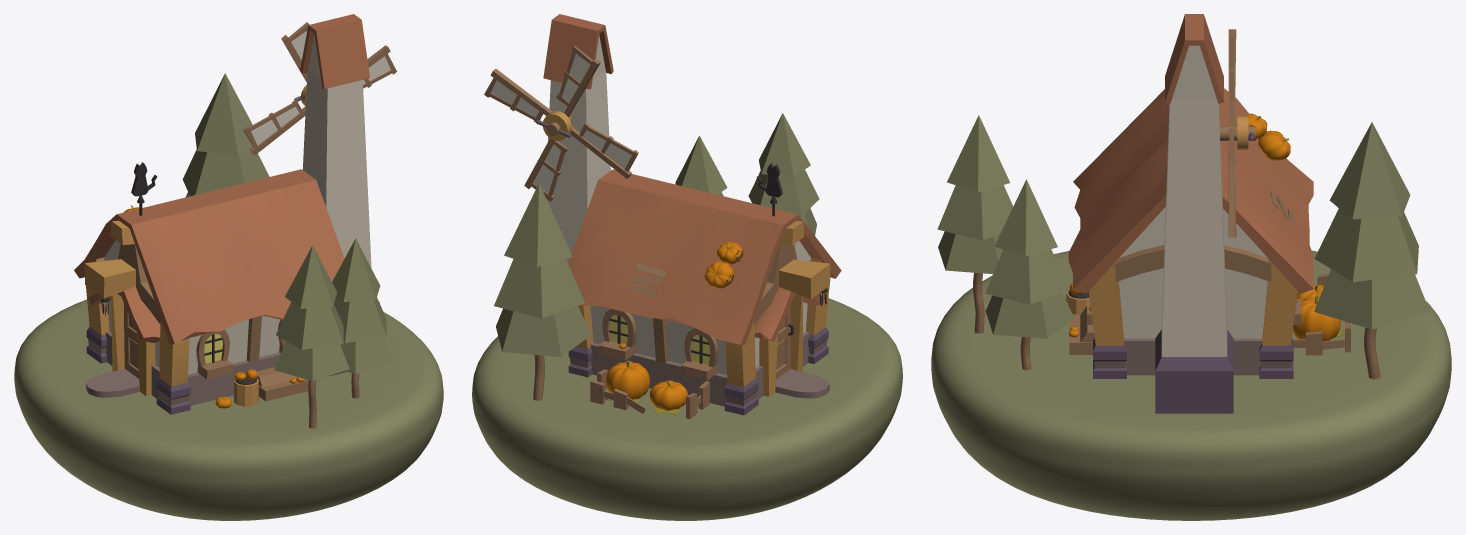
Rendered from melnica.fbx.
3 renders of one model, left to right at view 1: azimuth 30°, elevation 25°; view 2: azimuth 150°, elevation 25°; view 3: azimuth 270°, elevation 25°, orthographic. The views are drawn at different scales.
Parts seen in each view (by area): view 1: pCube60, polySurface20, pCube1, pPyramid2 (×3), pPyramid3 (×3), polySurface24, pCube2, pPyramid1 (×2), pCylinder4, polySurface23, polySurface18, pCube16 (+11 smaller); view 2: pCube60, polySurface20, pPyramid3 (×3), pCylinder4, pCube1, pPyramid2 (×2), polySurface24, pPyramid1, pCube2, polySurface14, polySurface18, pCube14 (+15 smaller); view 3: pCube60, pCube1, polySurface20, pPyramid2 (×3), pPyramid1 (×3), pPyramid3 (×3), polySurface24, polySurface17, polySurface21, pCube2, polySurface22, pCylinder4 (+4 smaller).
Boxes of the visible parts, bbox=[...] form: pCube60: bbox=[14, 299, 443, 520]; polySurface20: bbox=[74, 169, 344, 344]; pCube1: bbox=[302, 34, 379, 303]; pPyramid2 (×3): bbox=[182, 148, 386, 349]; pPyramid3 (×3): bbox=[195, 73, 380, 308]; polySurface24: bbox=[104, 240, 280, 405]; pCube2: bbox=[300, 14, 369, 89]; pPyramid1 (×2): bbox=[274, 338, 392, 381]; pCylinder4: bbox=[243, 22, 396, 154]; polySurface23: bbox=[156, 319, 190, 414]; polySurface18: bbox=[84, 259, 135, 298]; pCube16: bbox=[196, 330, 233, 379]; pCube60: bbox=[472, 298, 902, 520]; polySurface20: bbox=[568, 169, 841, 344]; pPyramid3 (×3): bbox=[504, 113, 810, 266]; pCylinder4: bbox=[484, 46, 638, 201]; pCube1: bbox=[546, 35, 610, 262]; pPyramid2 (×2): bbox=[494, 170, 819, 318]; polySurface24: bbox=[590, 240, 810, 406]; pPyramid1: bbox=[496, 306, 591, 356]; pCube2: bbox=[543, 14, 613, 89]; polySurface14: bbox=[724, 320, 758, 415]; polySurface18: bbox=[778, 259, 830, 298]; pCube14: bbox=[681, 328, 718, 380]; pCube60: bbox=[931, 250, 1451, 520]; pCube1: bbox=[1155, 45, 1233, 413]; polySurface20: bbox=[1068, 88, 1313, 293]; pPyramid2 (×3): bbox=[937, 185, 1418, 304]; pPyramid1 (×3): bbox=[938, 231, 1429, 338]; pPyramid3 (×3): bbox=[947, 115, 1410, 256]; polySurface24: bbox=[1119, 207, 1267, 375]; polySurface17: bbox=[1259, 259, 1297, 378]; polySurface21: bbox=[1089, 259, 1126, 378]; pCube2: bbox=[1165, 14, 1223, 103]; polySurface22: bbox=[1115, 244, 1271, 281]; pCylinder4: bbox=[1219, 29, 1255, 237].
Size of the model in its own units: 24.3 by 26.8 by 25.27.
